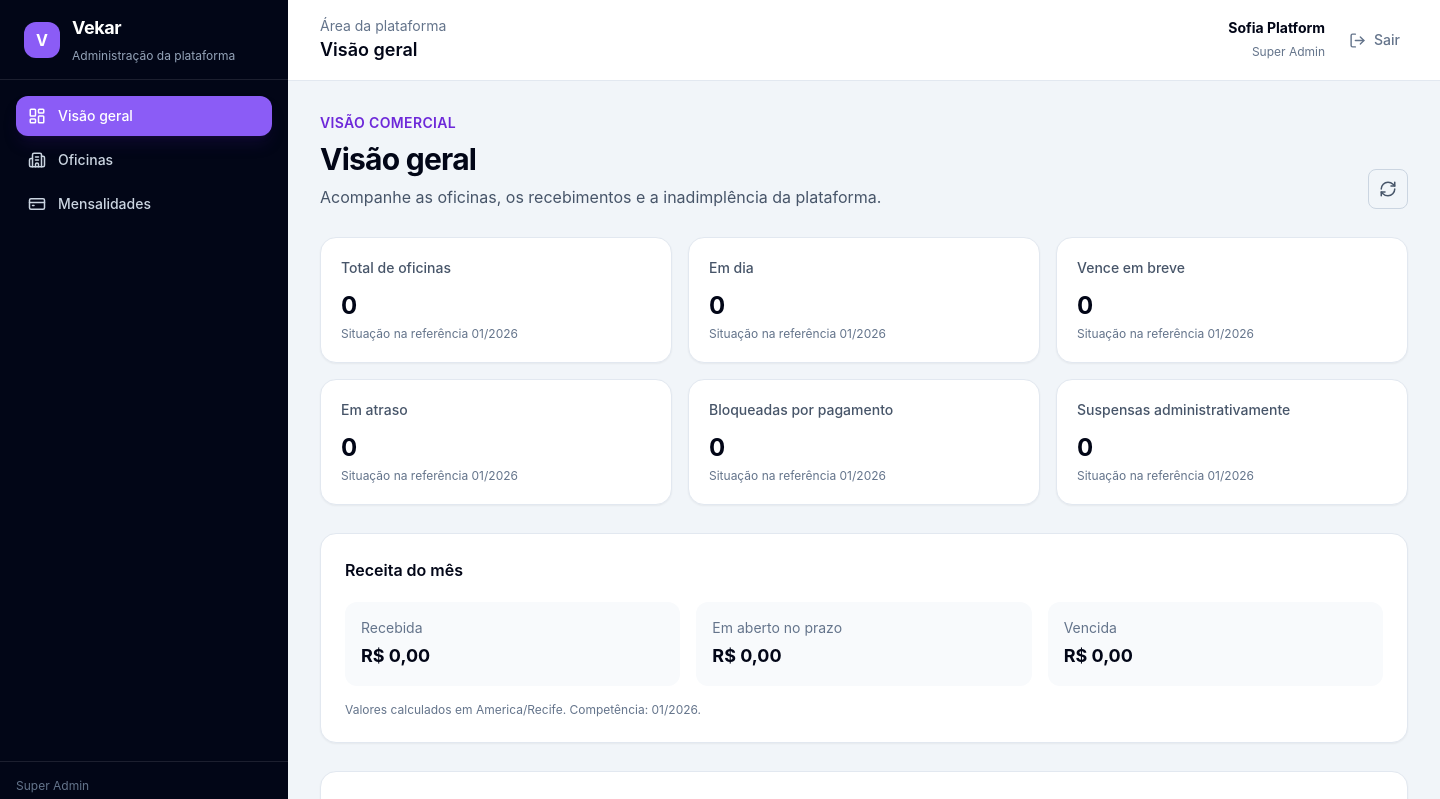
Test: Organization Admin frontend shell › lets a Super Admin sign out from the platform shell
The width and height of the screenshot is (1440, 799).
Check: the heading "Visão geral" below "Área da plataforma" is shown, box [320, 39, 418, 60]
Click the button "Sair" at (1375, 40), box [1341, 22, 1408, 58]
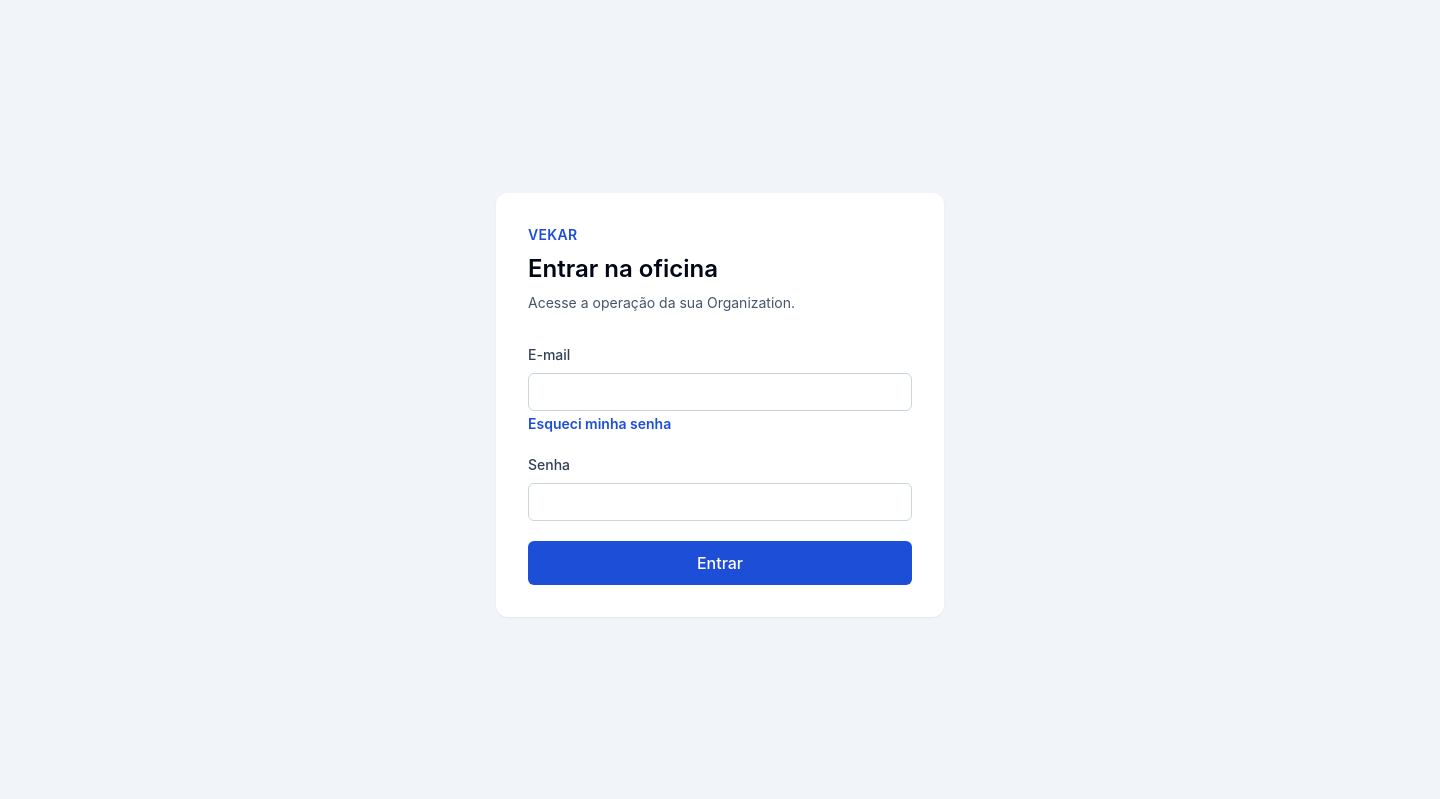
Check: the heading "Entrar na oficina" is shown, box [528, 254, 718, 283]
